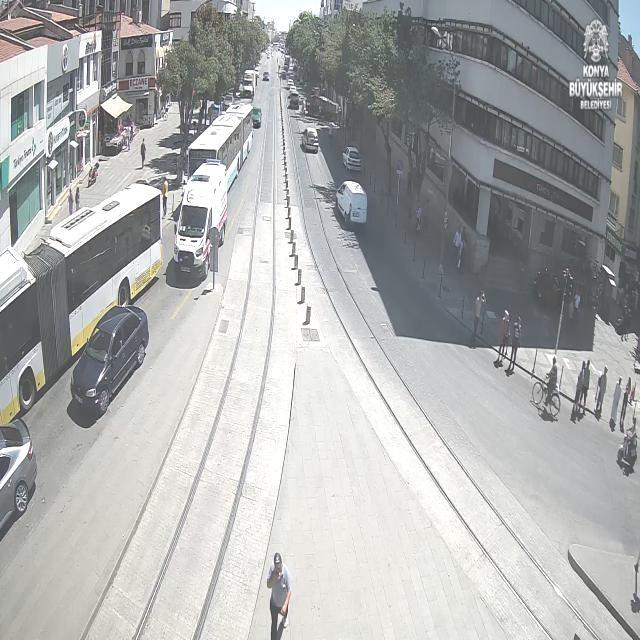Bus: (0, 183, 164, 425), (186, 104, 252, 193)
Car: (69, 305, 151, 412), (0, 420, 36, 540), (341, 146, 361, 170), (301, 127, 319, 152), (251, 107, 262, 128), (286, 80, 294, 90), (262, 72, 270, 81), (281, 71, 287, 79)
Cycle: (530, 372, 561, 418), (615, 433, 638, 466)
Van: (172, 160, 228, 278), (334, 180, 367, 224)
